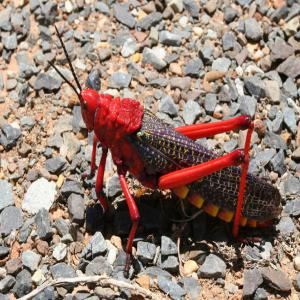locust: (64, 58, 281, 232)
